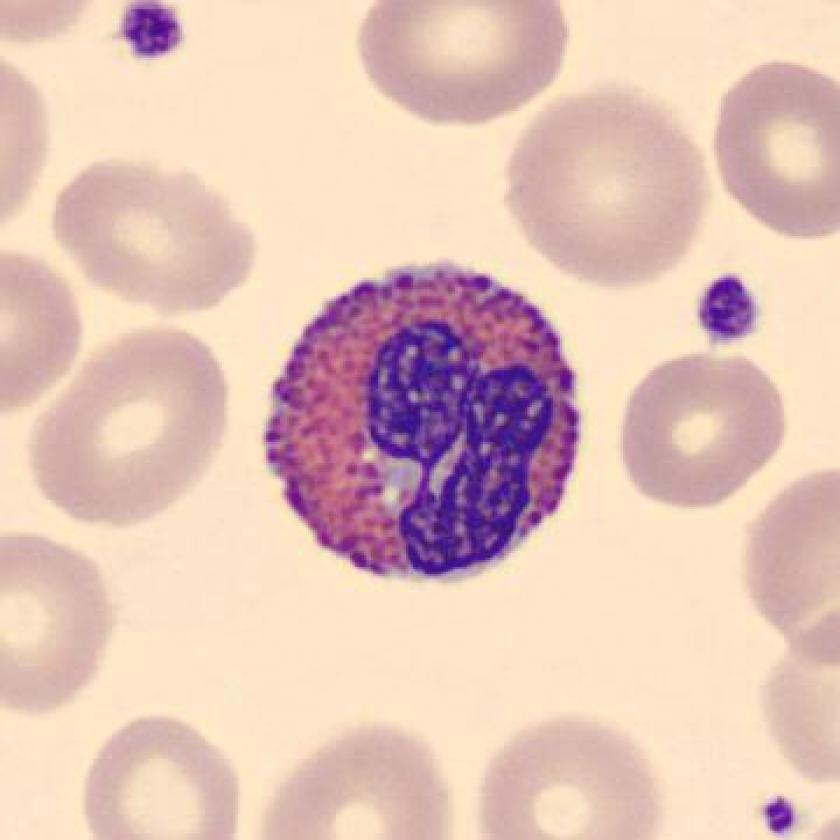eosinophil: (253, 254, 596, 608)
